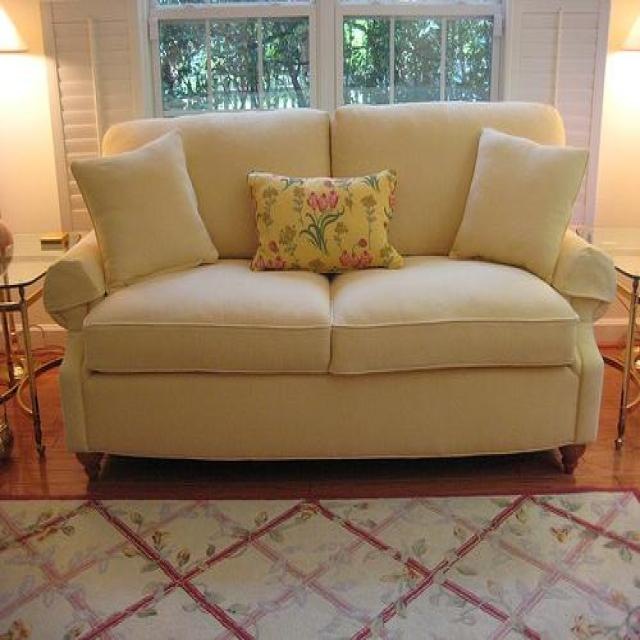sofa: (42, 99, 621, 482)
